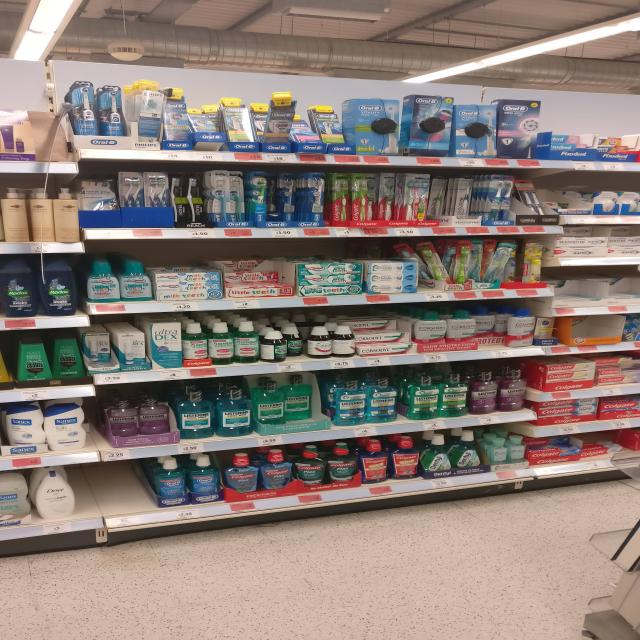unorganised: (5, 403, 46, 445), (52, 327, 83, 380), (266, 92, 295, 144), (140, 390, 173, 432), (284, 373, 314, 419), (107, 393, 139, 435), (473, 303, 498, 334), (283, 323, 304, 356), (431, 177, 447, 218), (223, 272, 283, 282)
